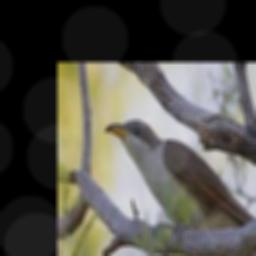Cuckoo: (105, 118, 256, 230)
